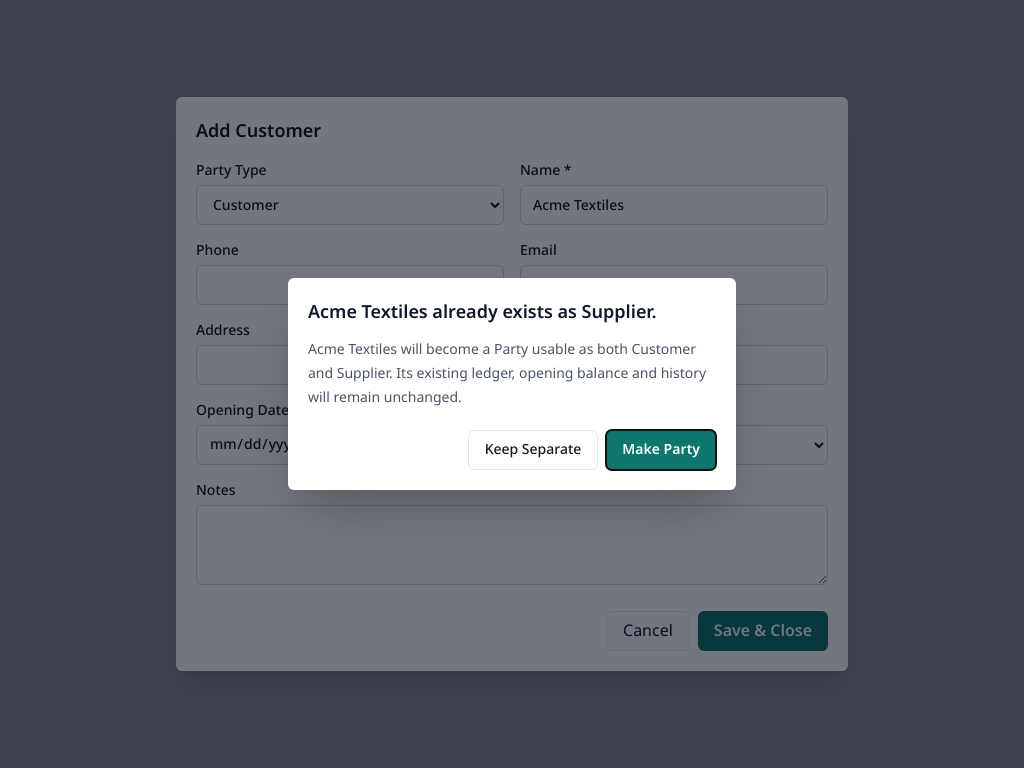
Keep Separate leaves the full form open and does not mutate the duplicate
Click the button "Keep Separate": point(533, 450) [468,430,598,470]
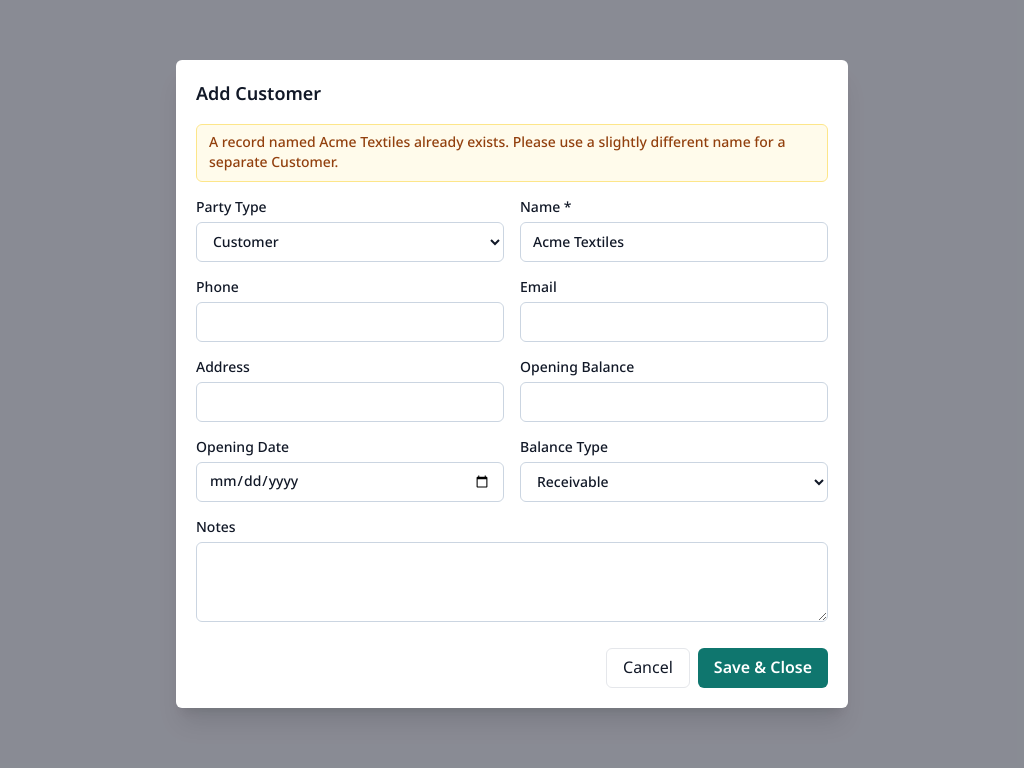
Expected: the dialog is shown, [176,60,848,708]
Expected: the message shows "Please use a slightly different name", [209,128,786,177]
Click the button "Save & Close": point(763, 668) [698,648,828,688]
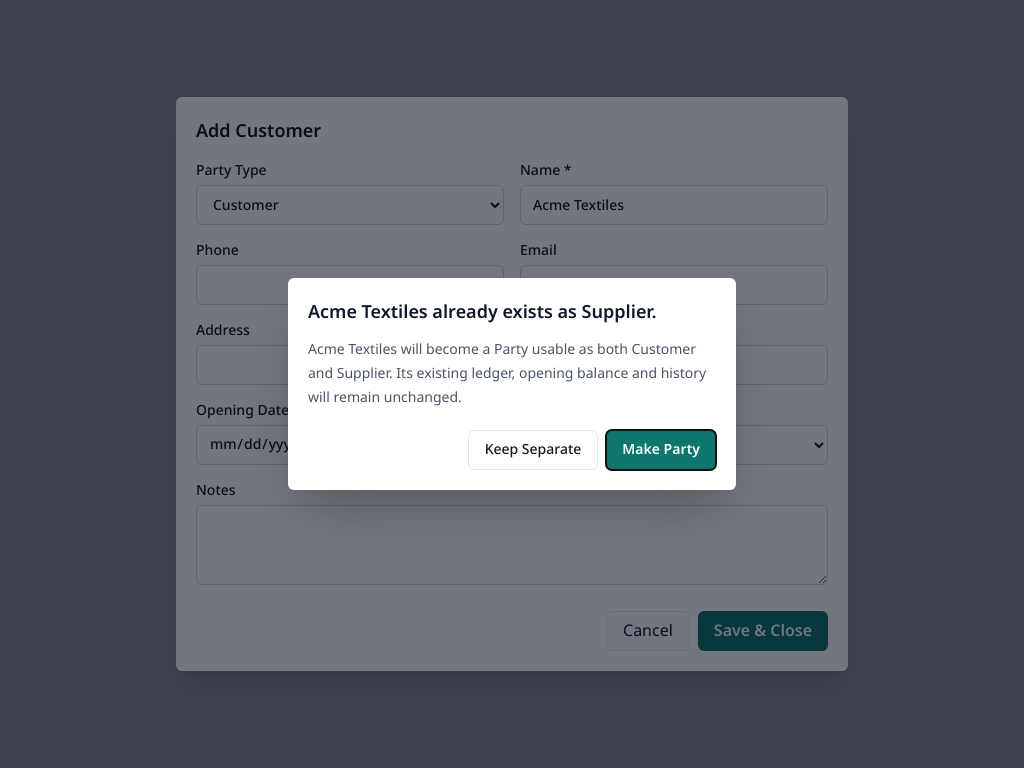
Expected: the button "Make Party" is shown, [606,430,716,470]
